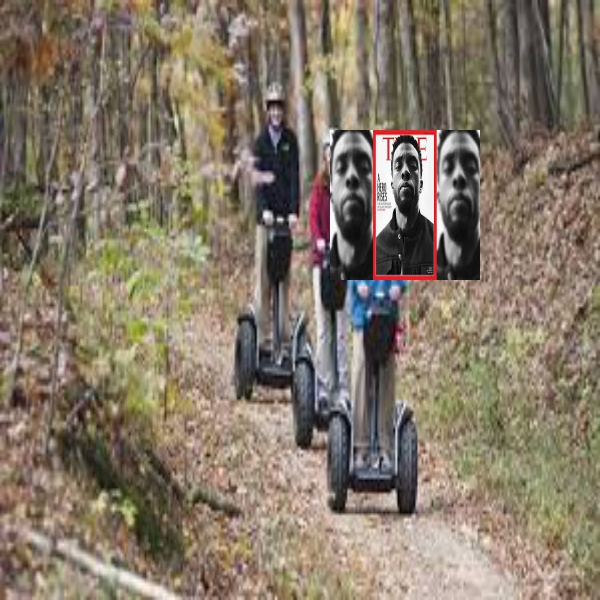time_cover: (379, 125, 486, 282), (379, 120, 436, 282), (325, 122, 371, 283)
